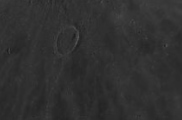crater: (35, 9, 110, 77)
